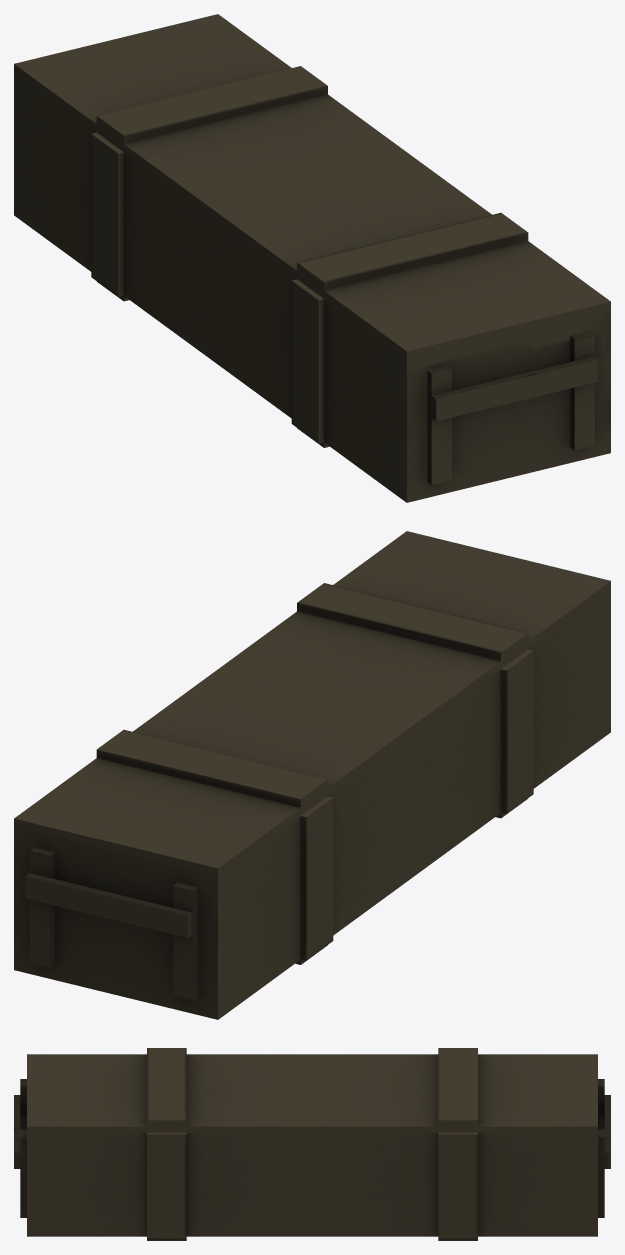
File: Crate_Long 1.fbx
3 views of the same model, one above another, from view 1: azimuth 30°, elevation 25°; view 2: azimuth 150°, elevation 25°; view 3: azimuth 270°, elevation 25° (orthographic). The views are drawn at different scales.
Visible parts, largest first — view 1: Crate_Long, Crate_Long_Top; view 2: Crate_Long, Crate_Long_Top; view 3: Crate_Long, Crate_Long_Top.
Boxes of the visible parts, x1,y1,x2,y2 form: Crate_Long: (14, 72, 610, 502); Crate_Long_Top: (14, 14, 610, 359); Crate_Long: (14, 589, 610, 1019); Crate_Long_Top: (14, 531, 610, 876); Crate_Long: (14, 1079, 610, 1240); Crate_Long_Top: (27, 1048, 597, 1132).
Bounding box in the file's own units: 0.7897 × 0.582 × 2.61.
